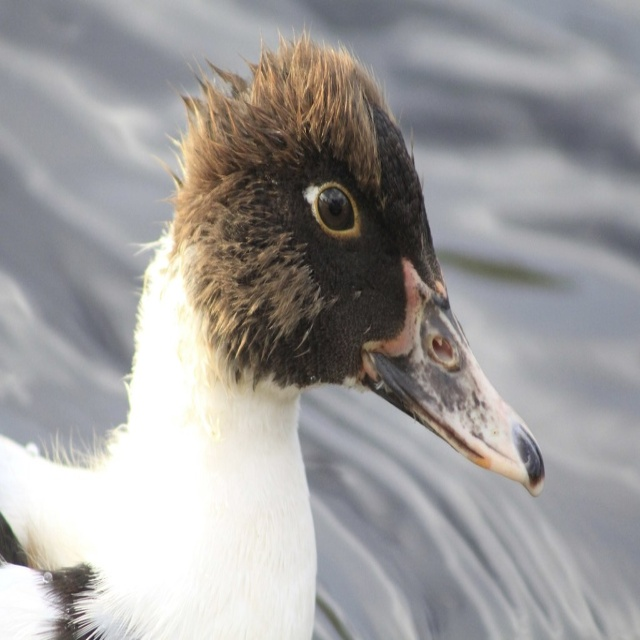Duck: (0, 17, 545, 640)
